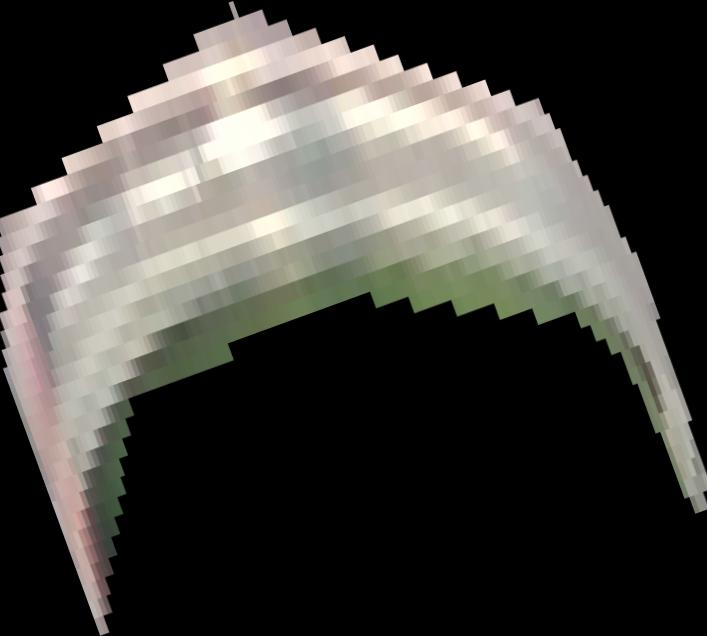head: (0, 1, 706, 636)
